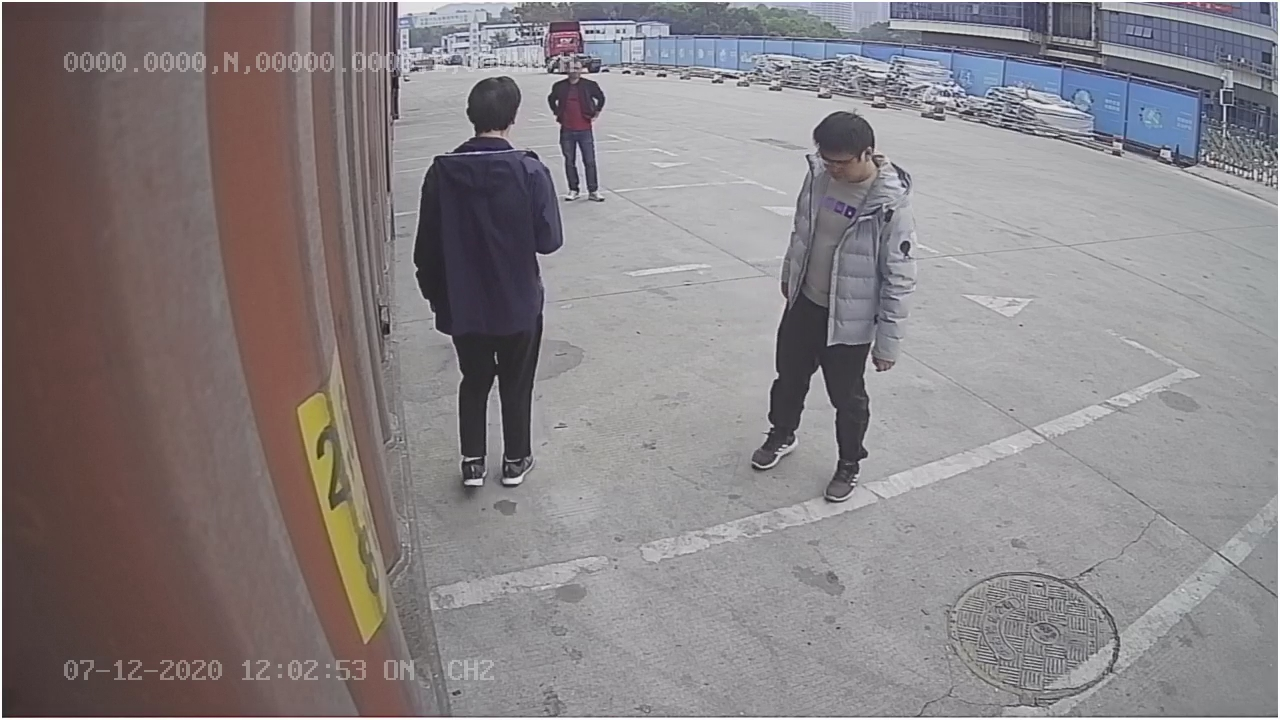person: (746, 102, 924, 500)
